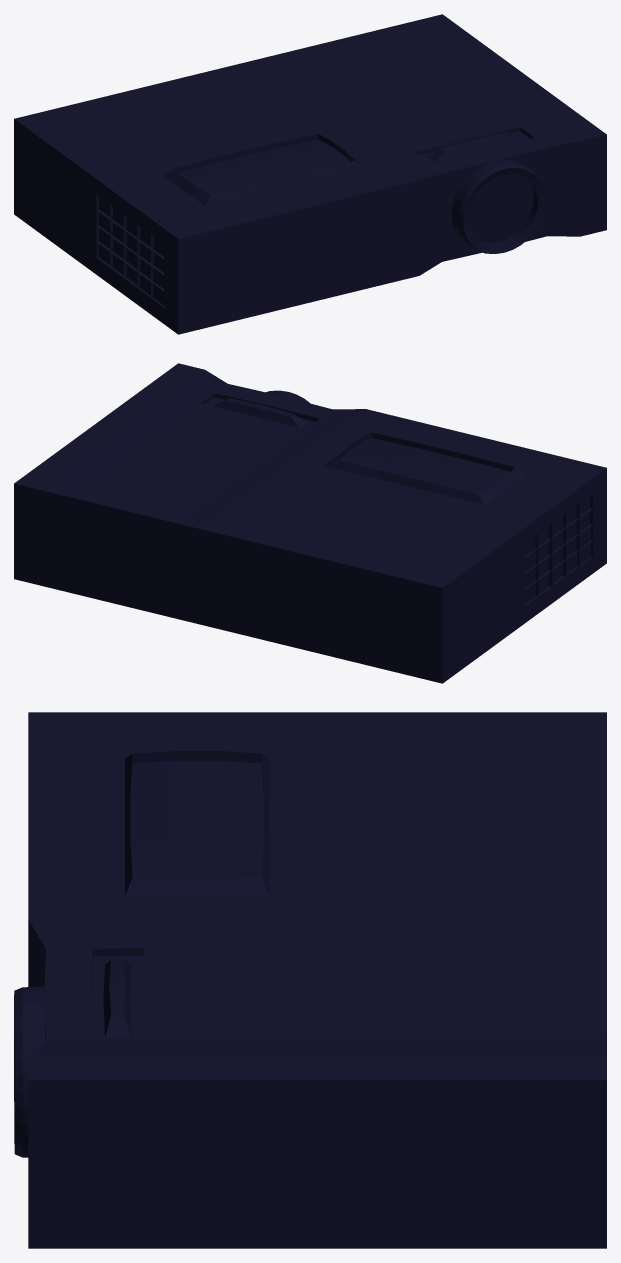
File: Projector - No Join.fbx
3 renders of one model, top to bottom at view 1: azimuth 30°, elevation 25°; view 2: azimuth 150°, elevation 25°; view 3: azimuth 270°, elevation 25°, orthographic. The views are drawn at different scales.
Parts seen in each view (by area): view 1: Cube; view 2: Cube; view 3: Cube.
Boxes of the visible parts, x1,y1,x2,y2 form: Cube: (14,14,606,334); Cube: (14,363,606,683); Cube: (14,712,606,1248).
Size of the model in its own units: 301 by 82.16 by 205.
